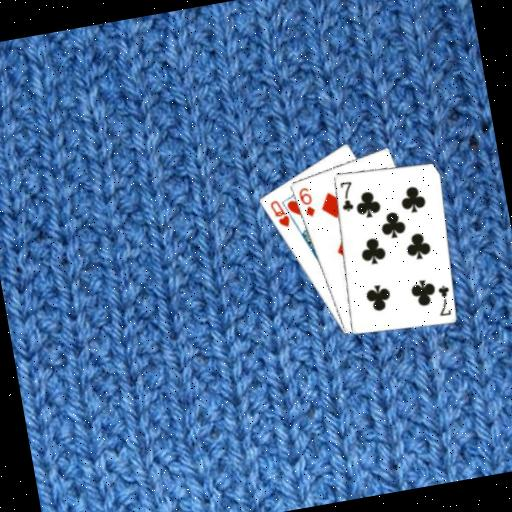6D: (293, 183, 317, 220)
7C: (431, 281, 455, 319), (334, 177, 357, 213)
QH: (266, 194, 292, 231)
